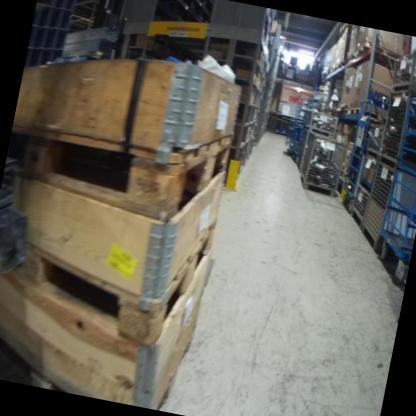pallet: (7, 185, 216, 355), (0, 90, 234, 235), (0, 319, 186, 413), (347, 106, 385, 123)
stillage: (354, 162, 400, 255), (292, 129, 349, 199), (375, 90, 416, 164), (387, 49, 416, 94), (302, 105, 343, 136), (354, 155, 377, 194), (364, 121, 388, 154), (348, 187, 367, 225)
